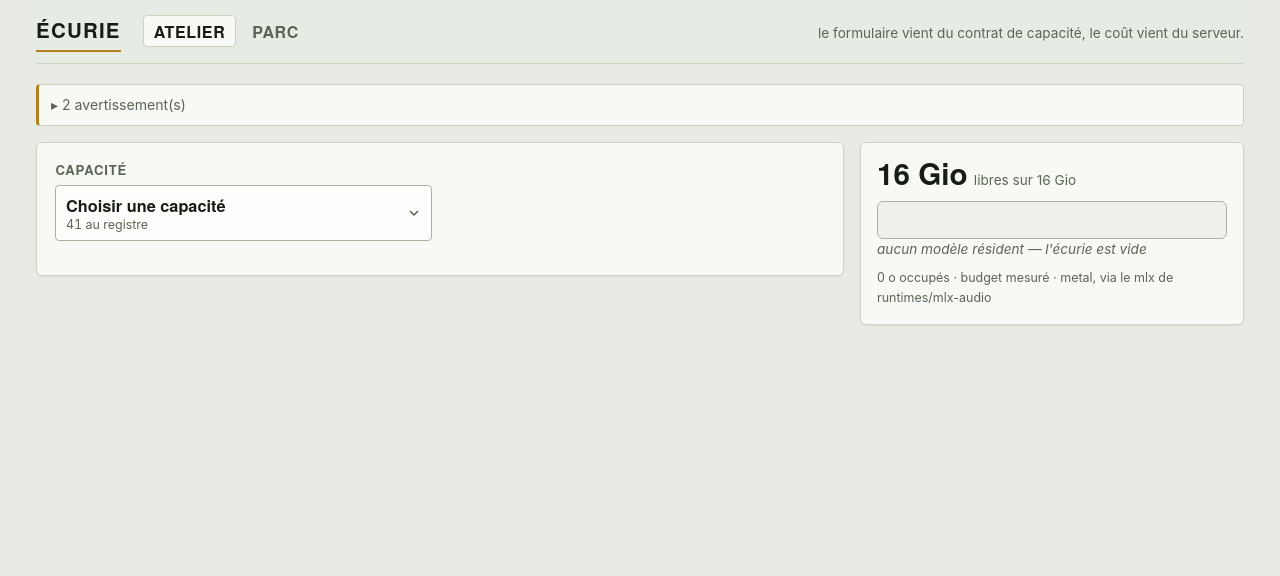
Test: quand le suivi lâche › un job oublie pendant que sa soumission vole ne revient pas bloquer l_ecran
The width and height of the screenshot is (1280, 576).
Click the button "Choisir une capacité 41 au registre": {"x": 146, "y": 205} [55, 185, 432, 241]
(page scrolled)
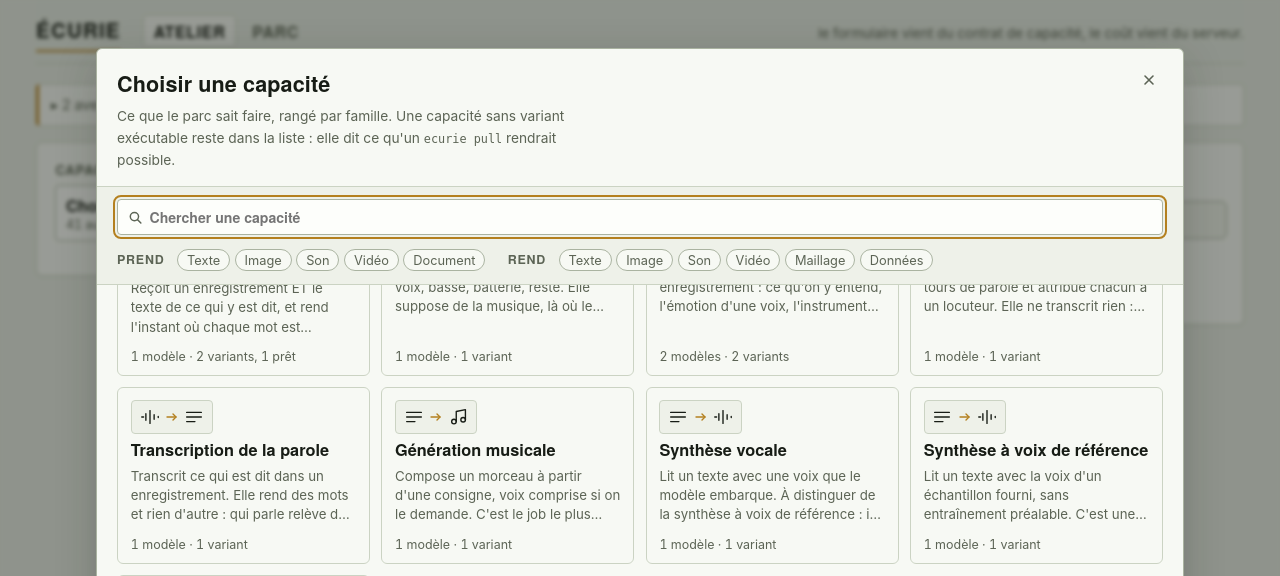
Click the button "Synthèse vocale": {"x": 772, "y": 475} [646, 387, 899, 564]
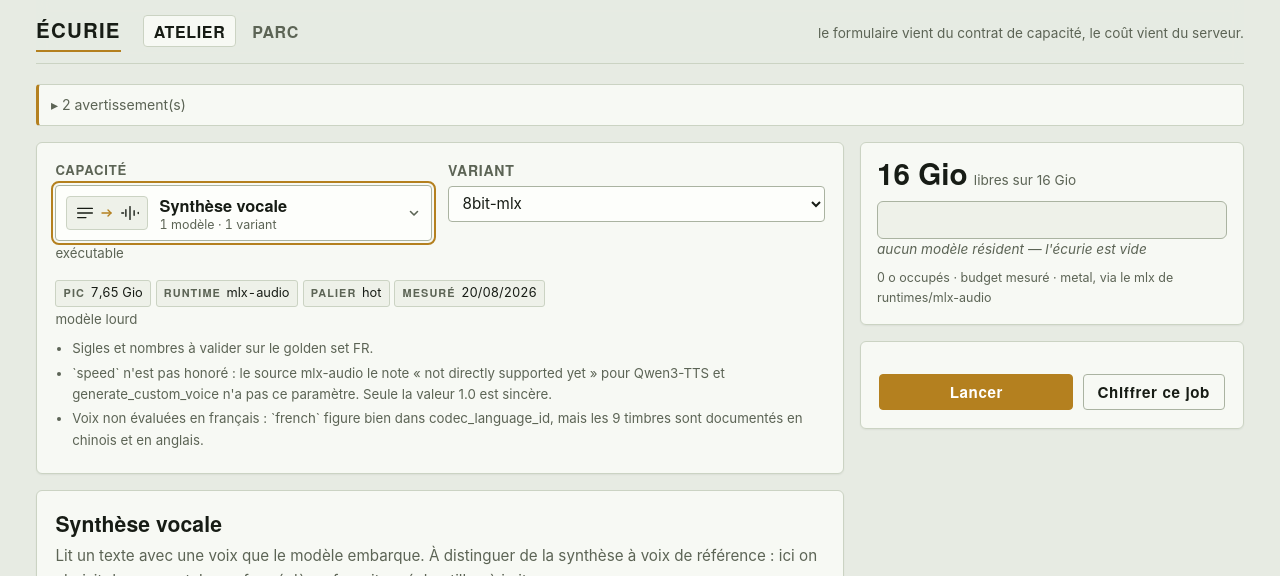
Click the button "Lancer": {"x": 976, "y": 392} [879, 374, 1073, 410]
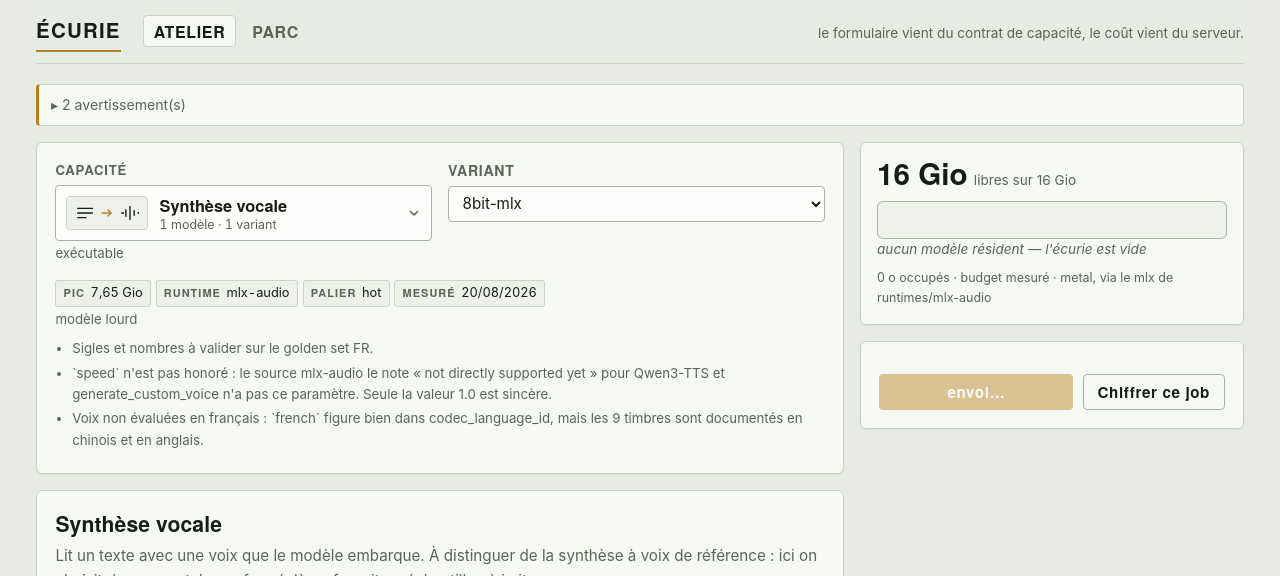
Click the button named "Capacité": {"x": 244, "y": 213} [55, 185, 432, 241]
(page scrolled)
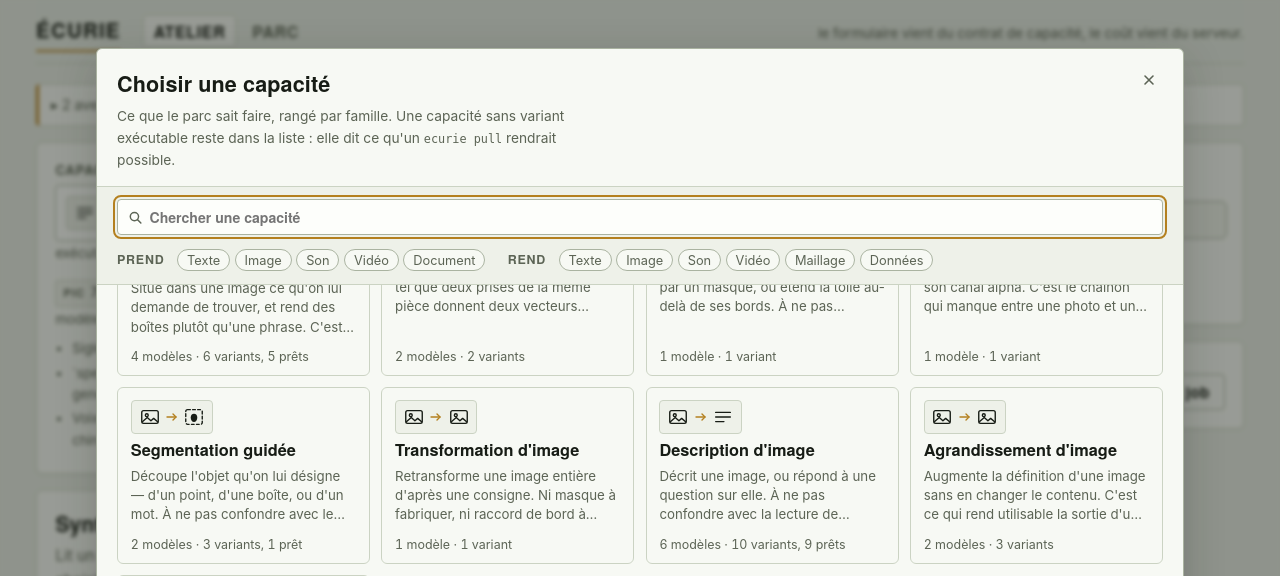
Click the button "Agrandissement d'image": {"x": 1036, "y": 476} [910, 387, 1163, 564]
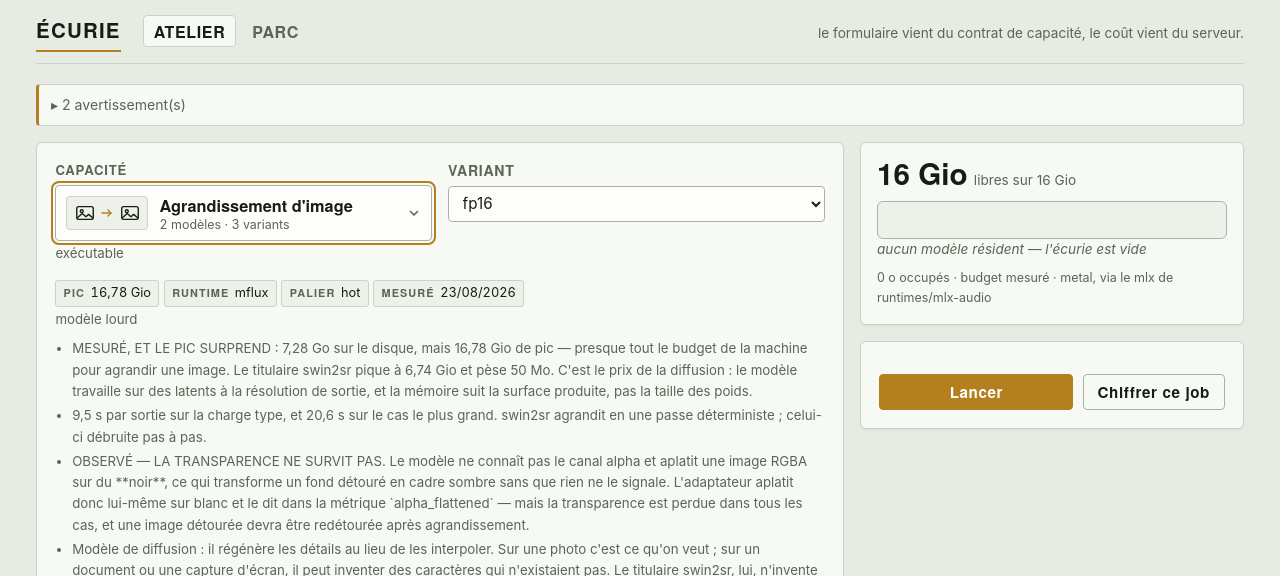
Result: the button "Lancer" is enabled at [879, 374, 1073, 410]
